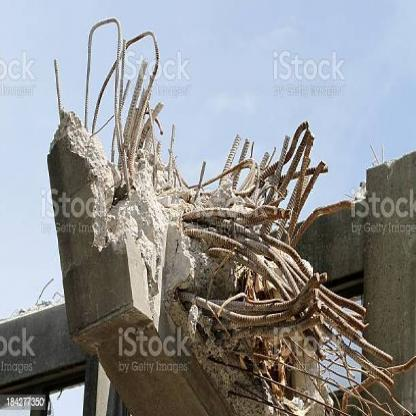rebar: (53, 14, 415, 415)
